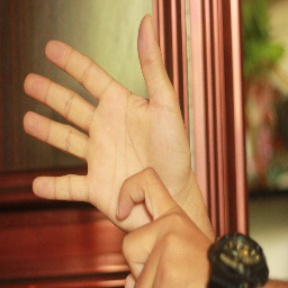R: (21, 15, 216, 287)
